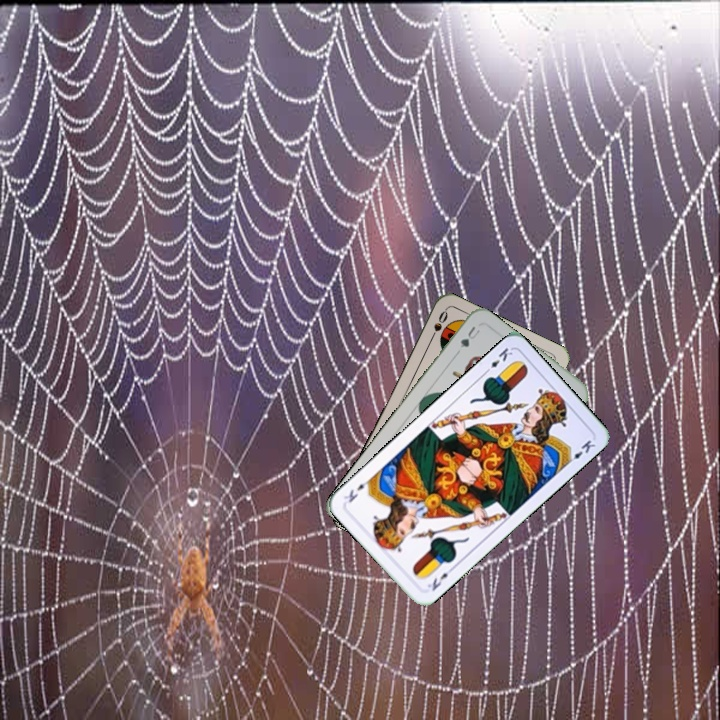EK: (480, 344, 515, 377), (423, 563, 457, 594)
GU: (456, 322, 483, 351)
SO: (426, 306, 451, 344)
